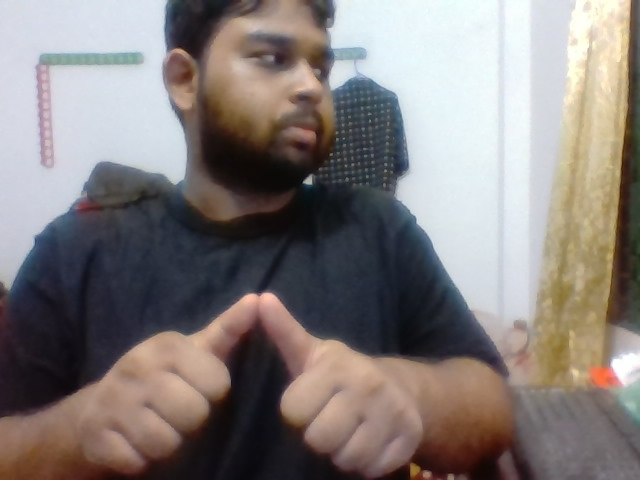A: (82, 287, 443, 480)
